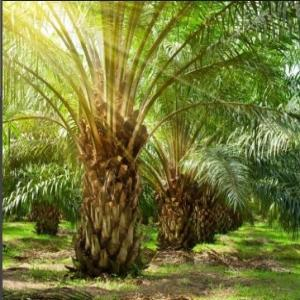palm tree: (1, 0, 299, 278)
